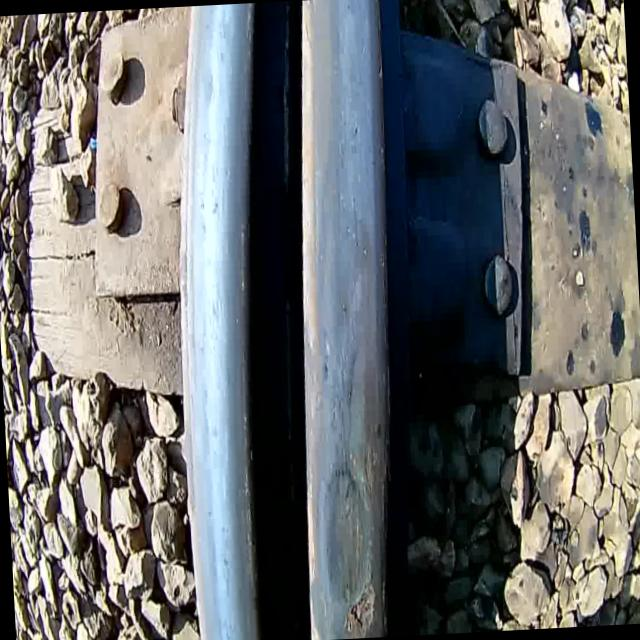Flakings: (215, 3, 290, 640)
Spallings: (299, 574, 400, 640)
Squats: (318, 460, 374, 600)
